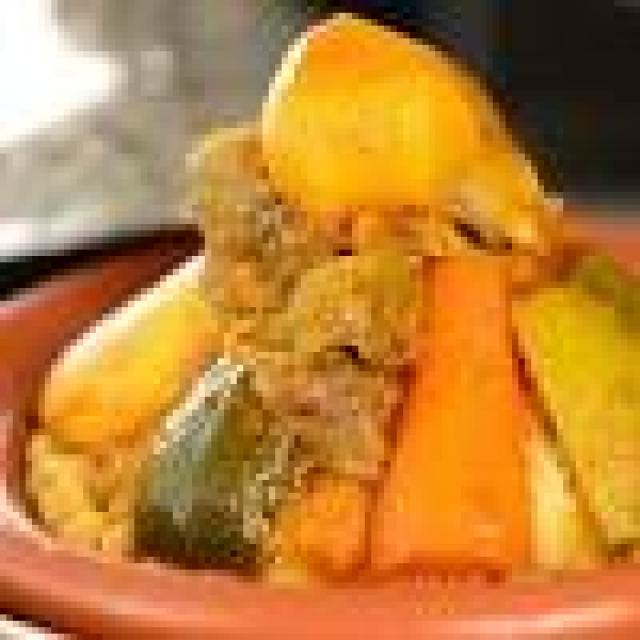Couscous: (29, 11, 640, 585)
